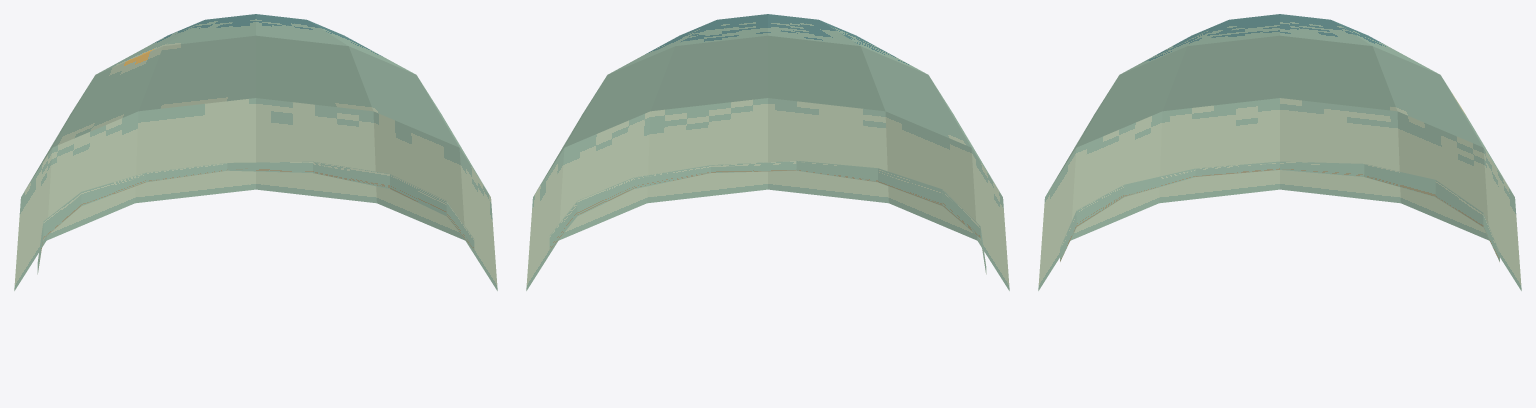
The model's file is land.sky__dunes.glb.
The picture shows the model from 3 angles, left to right: view 1: azimuth 30°, elevation 25°; view 2: azimuth 150°, elevation 25°; view 3: azimuth 270°, elevation 25°; orthographic projection.
Visible parts, largest first — view 1: kit_shell_sky, kit_shell_horizon; view 2: kit_shell_sky, kit_shell_horizon; view 3: kit_shell_sky, kit_shell_horizon.
Boxes of the visible parts, box(x1,y1,x2,y2) form: kit_shell_sky: box(14, 14, 497, 290); kit_shell_horizon: box(37, 161, 474, 274); kit_shell_sky: box(526, 14, 1009, 290); kit_shell_horizon: box(549, 160, 986, 274); kit_shell_sky: box(1038, 14, 1521, 290); kit_shell_horizon: box(1060, 161, 1499, 261).
Bounding box in the file's own units: 791 × 460 × 791.
Materials: 2 (2 with a texture image).
